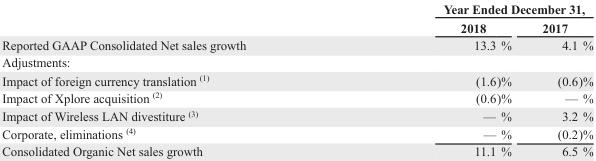table: (1, 1, 592, 158)
table column: (1, 1, 344, 158), (344, 1, 526, 158), (526, 1, 592, 158)
table column header: (1, 1, 592, 35)
table projected row header: (1, 53, 592, 70)
table row: (1, 17, 592, 35), (1, 35, 592, 53), (1, 70, 592, 88), (1, 88, 592, 106), (1, 106, 592, 124), (1, 124, 592, 142), (1, 53, 592, 70), (1, 1, 592, 17), (1, 142, 592, 158)
table spanning cell: (344, 1, 592, 17)
